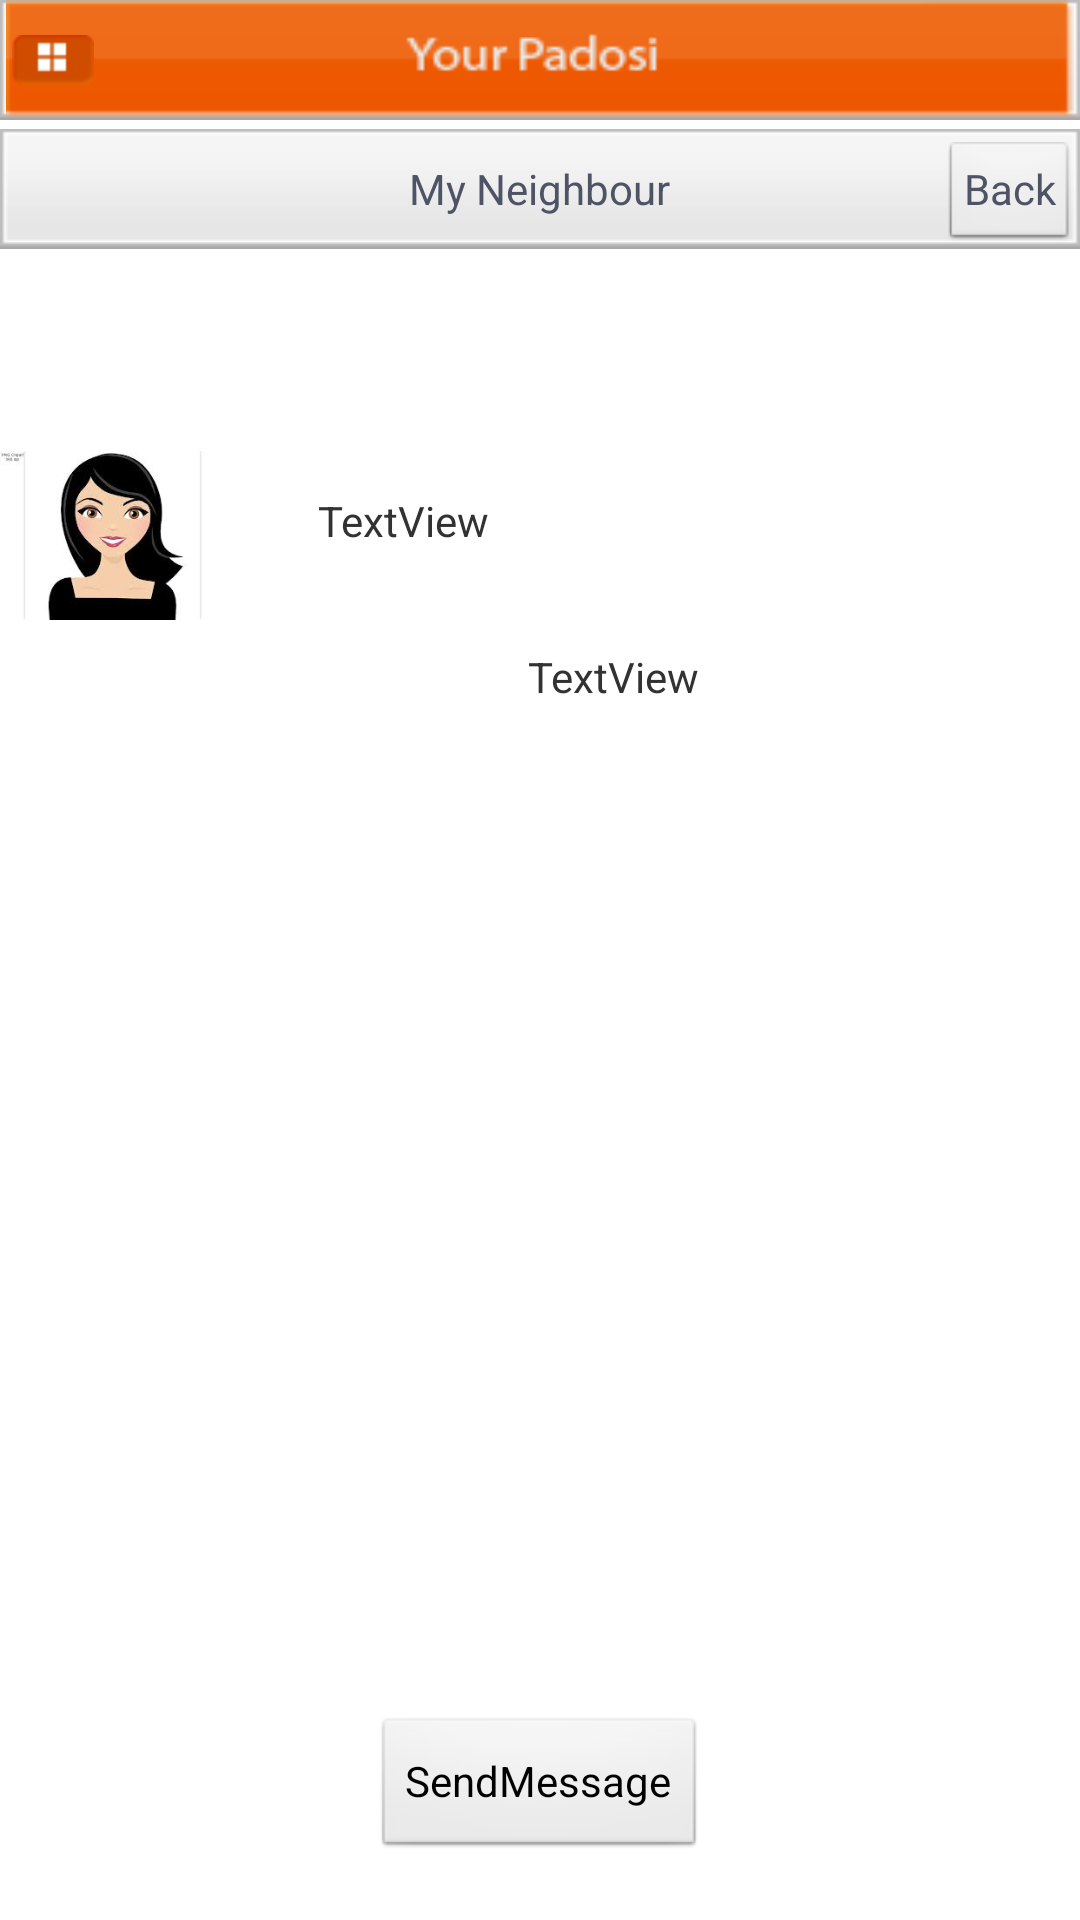

Icon click points for this 1080×1920 phone screenshot, format (x,y):
menuicon: (53,60)
